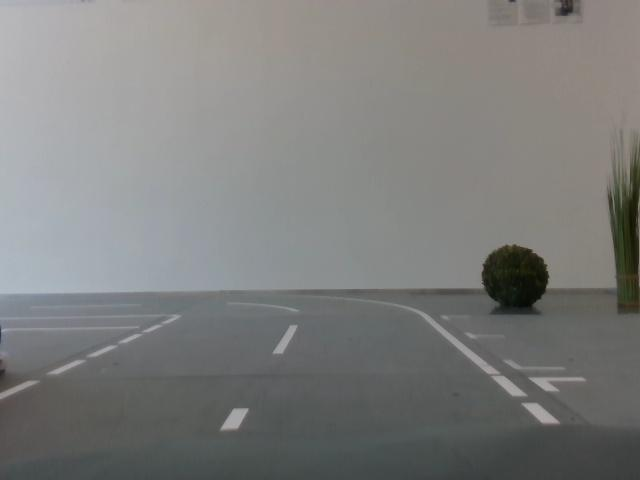potted plant: (601, 123, 640, 313), (476, 240, 552, 312)
